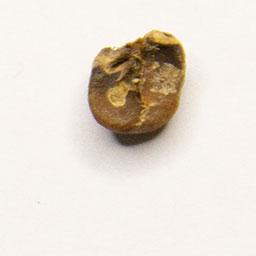defect: (79, 24, 193, 141)
